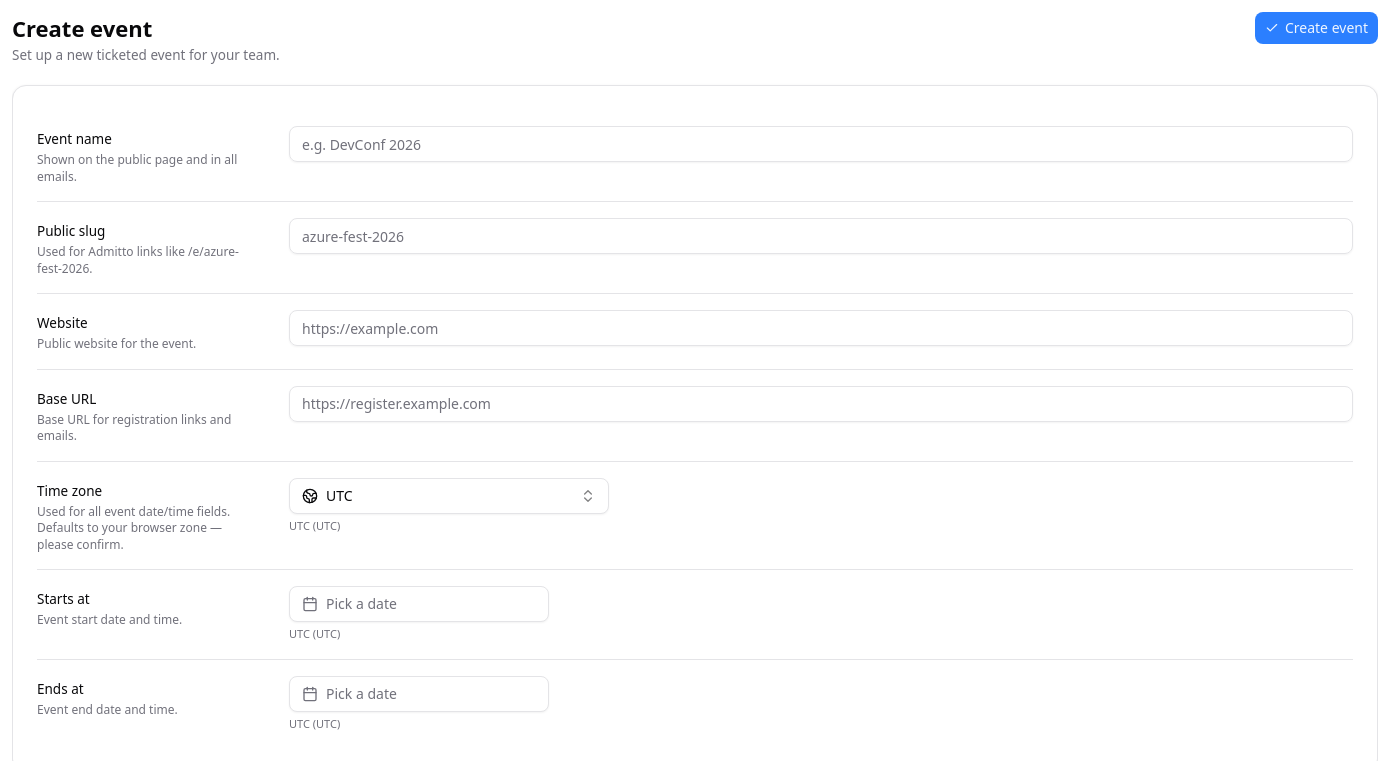
CreateEventForm › blocks an invalid create and displays client validation
This screenshot has width=1390, height=761.
Click the button "Create event": (1316,28) x1=1255 y1=12 x2=1378 y2=44
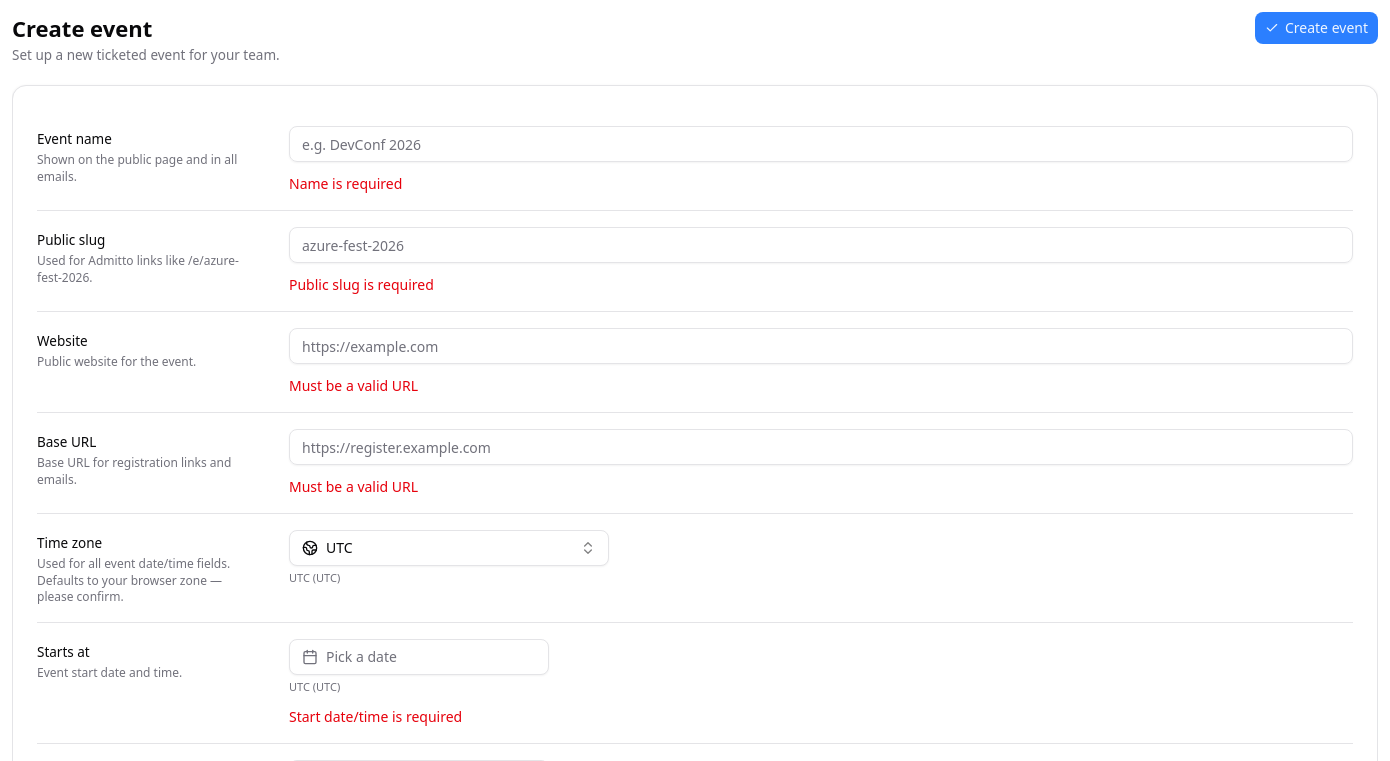
Result: the text "Name is required" is shown at x1=289 y1=174 x2=402 y2=193
